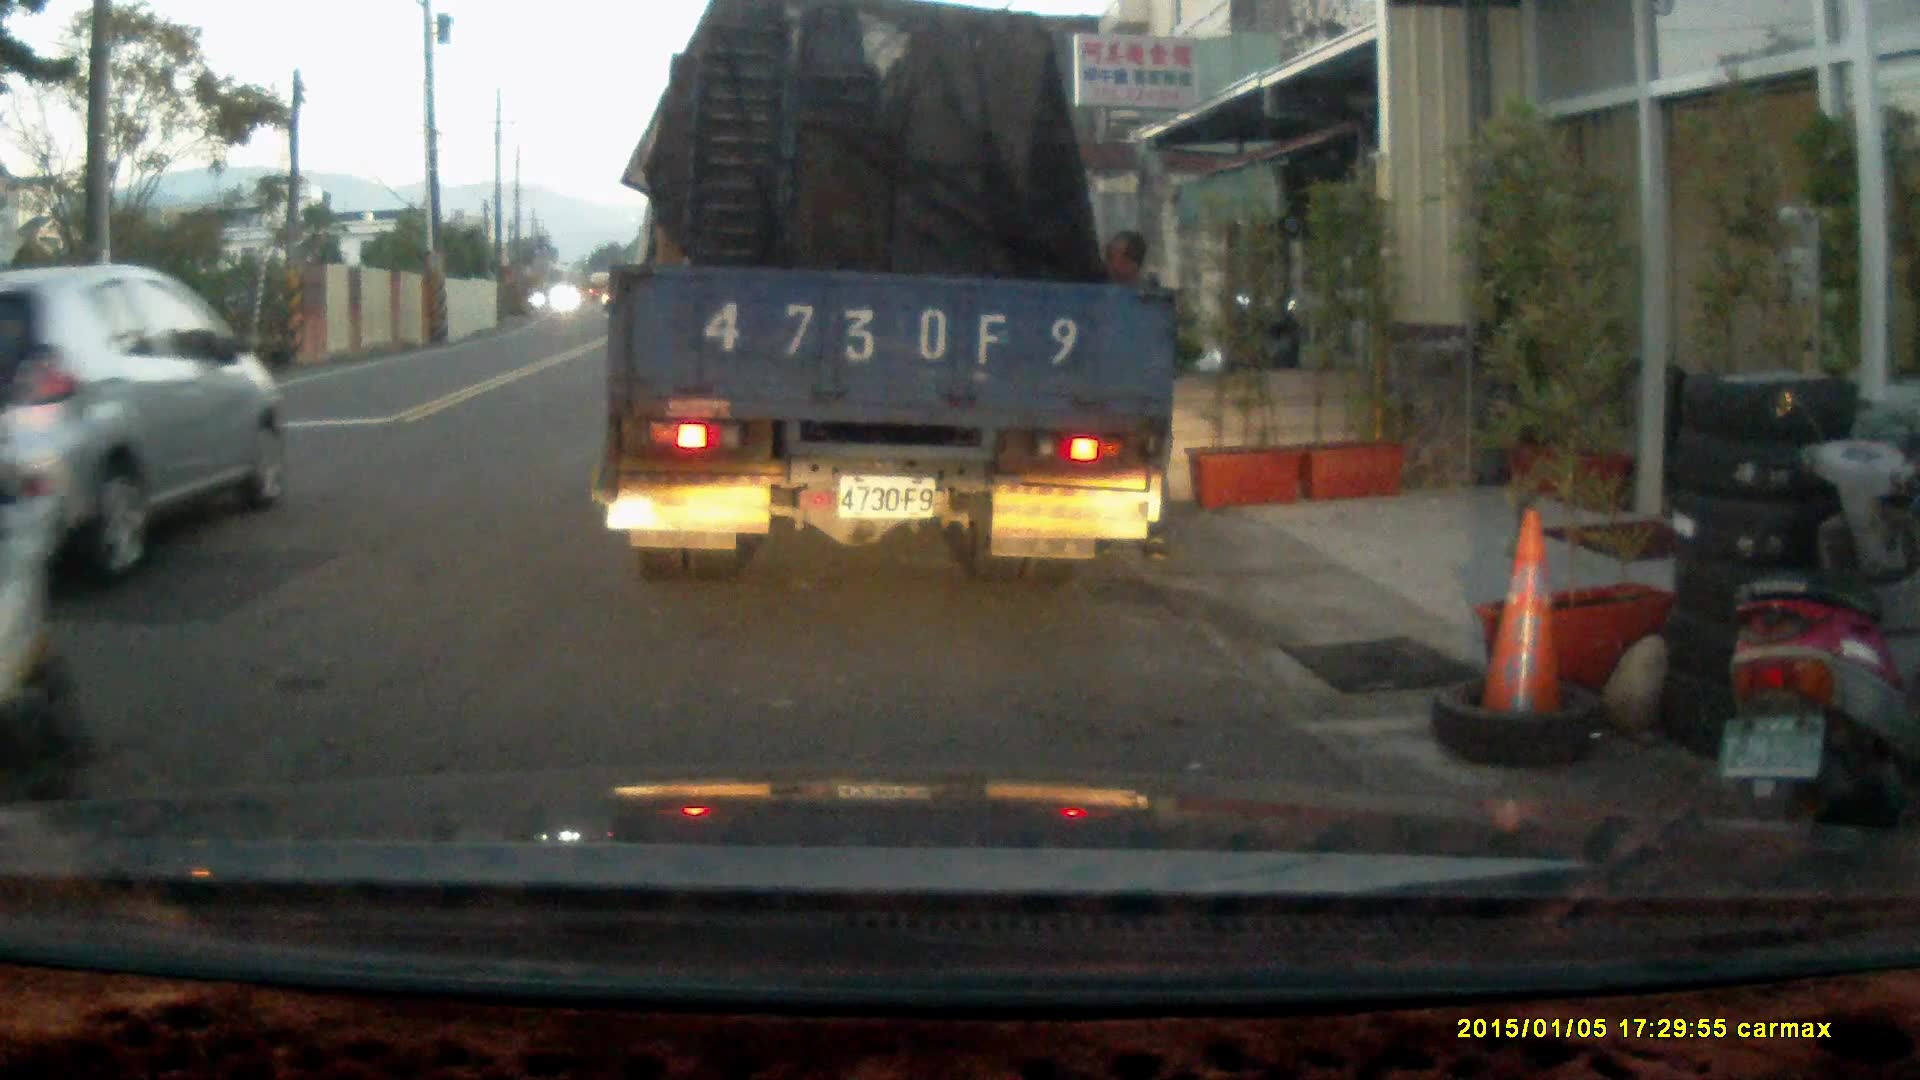pedestrian: (1083, 229, 1184, 567)
vehicle: (600, 23, 1185, 572), (3, 259, 284, 544)
